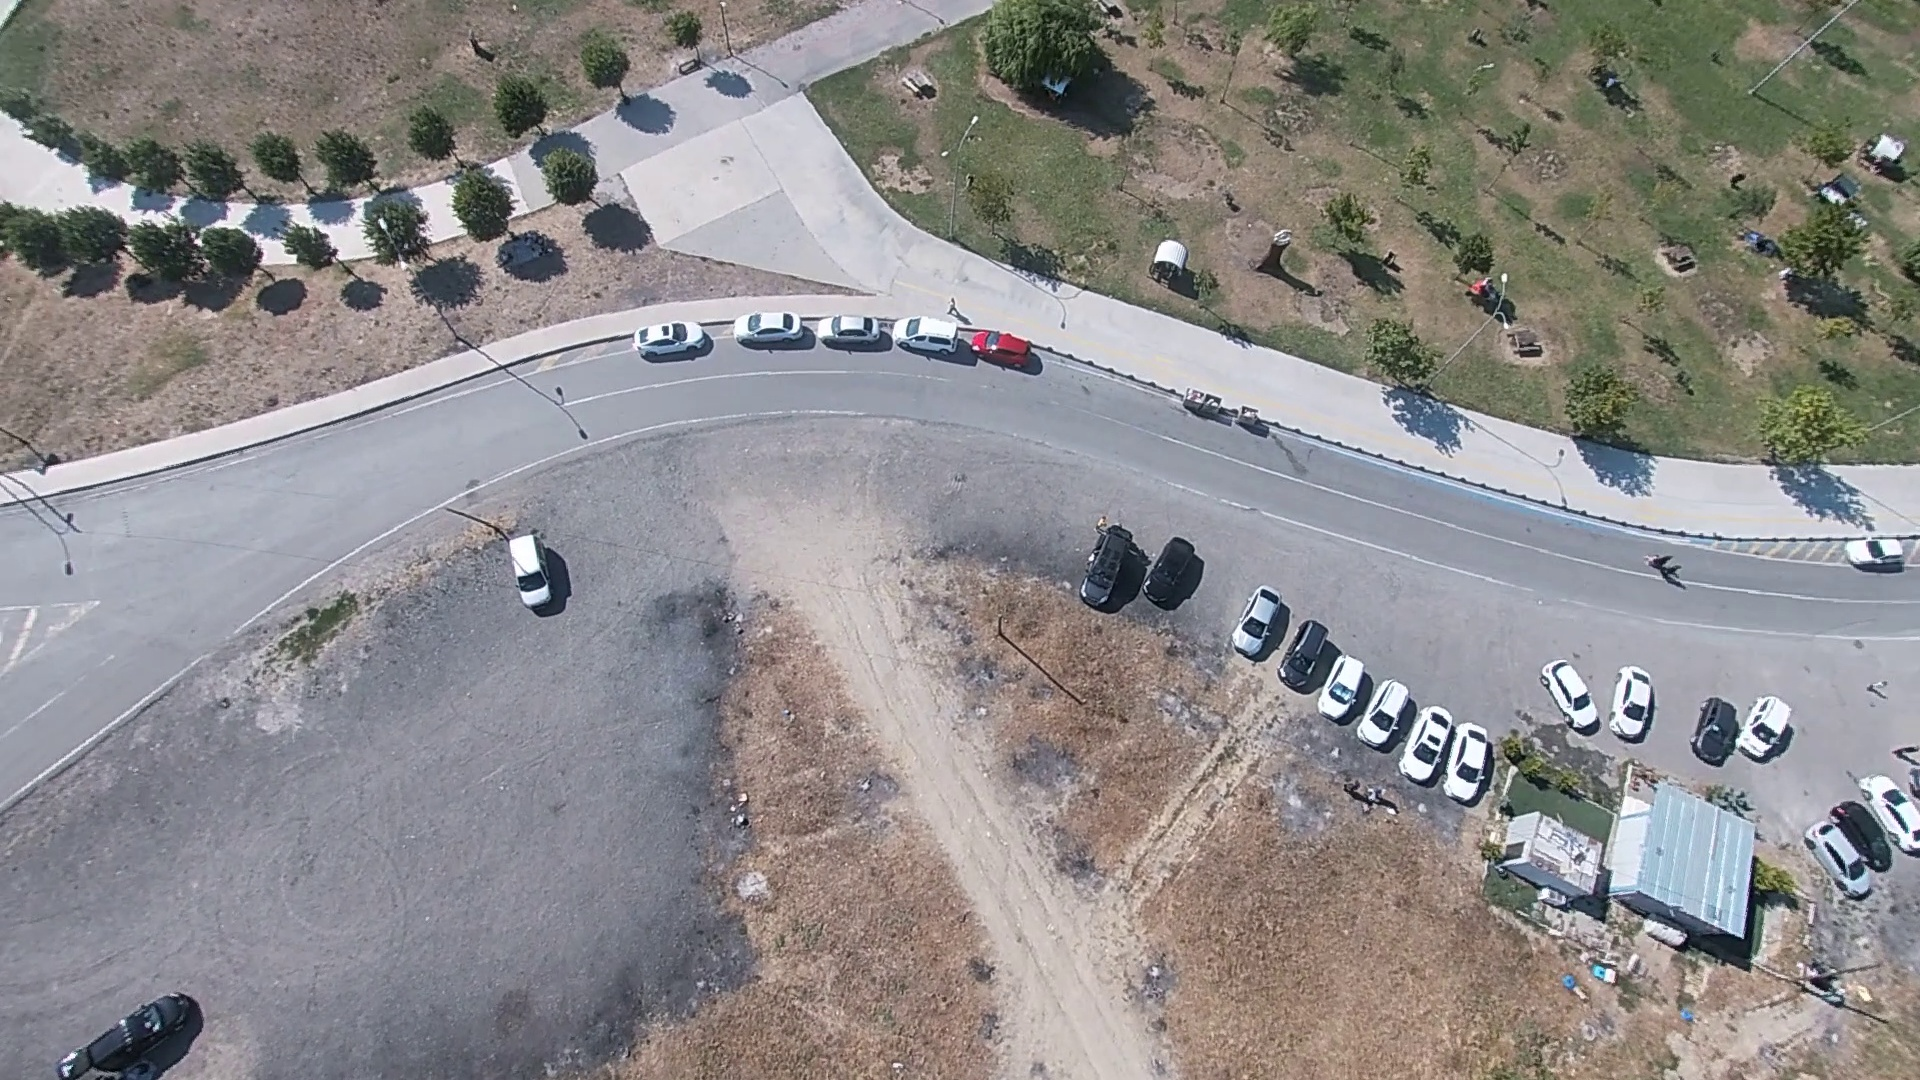arac: (60, 986, 202, 1080), (1238, 582, 1297, 666), (506, 529, 563, 616), (1544, 657, 1604, 731), (957, 323, 1043, 370), (1405, 709, 1461, 781), (1614, 663, 1663, 742), (632, 315, 711, 358)
insan: (1469, 277, 1516, 317)
